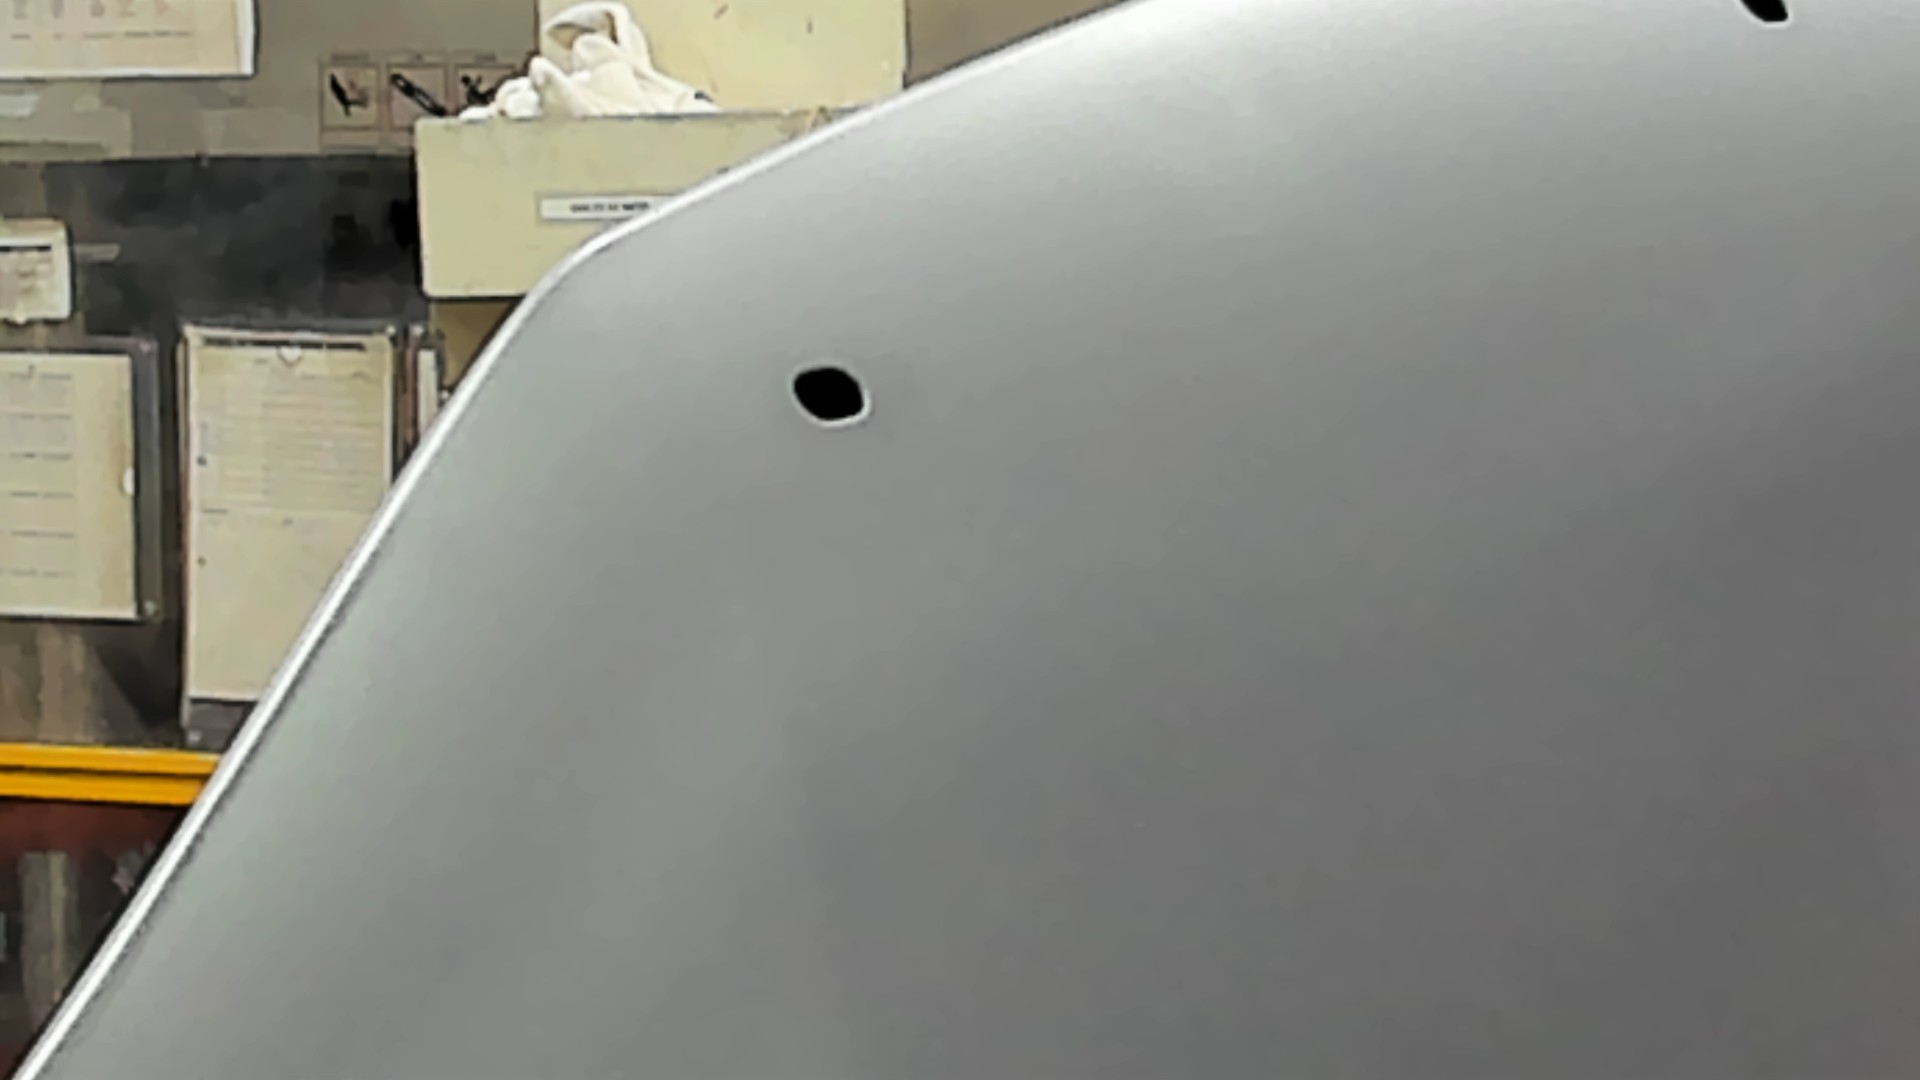amorfo: (789, 363, 872, 425), (1737, 1, 1797, 32)
